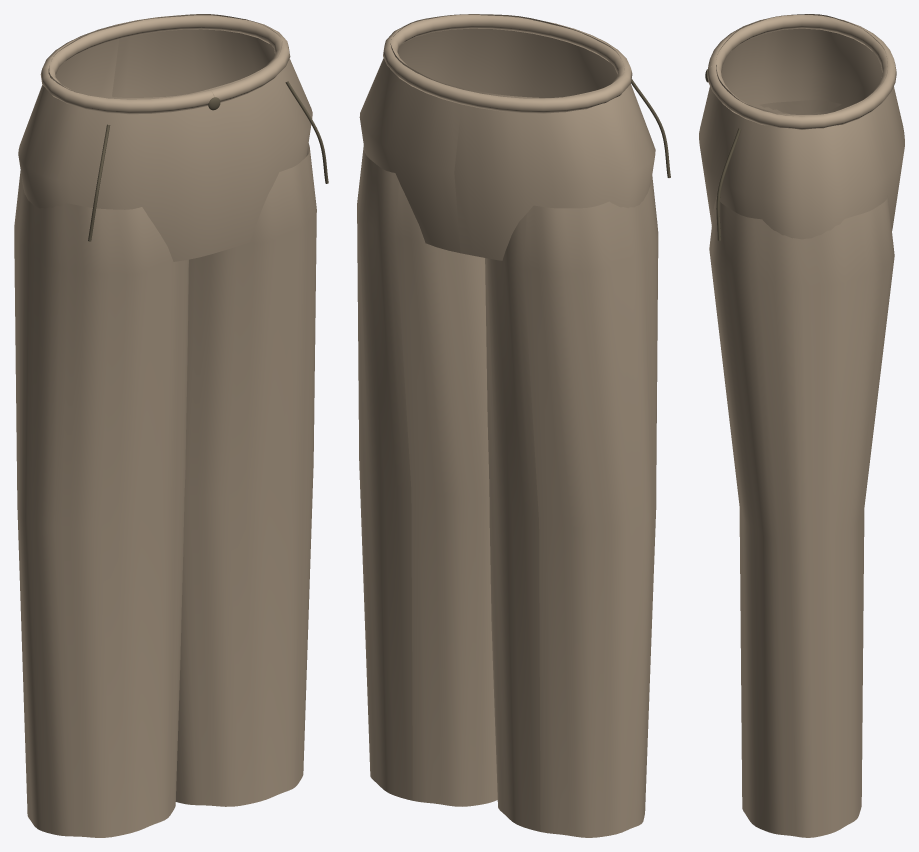
Rendered from pantalon-dune-femme.glb.
The picture shows the model from 3 angles, left to right: view 1: azimuth 30°, elevation 25°; view 2: azimuth 150°, elevation 25°; view 3: azimuth 270°, elevation 25°; orthographic projection. The views are drawn at different scales.
Parts seen in each view (by area): view 1: edit-13; view 2: edit-13; view 3: edit-13.
Part boxes in pixels (x1=…): edit-13: x1=14, y1=14, x2=328, y2=837; edit-13: x1=357, y1=14, x2=670, y2=837; edit-13: x1=699, y1=14, x2=904, y2=837.
Bounding box in the file's own units: 0.3836 × 0.9517 × 0.2493.
